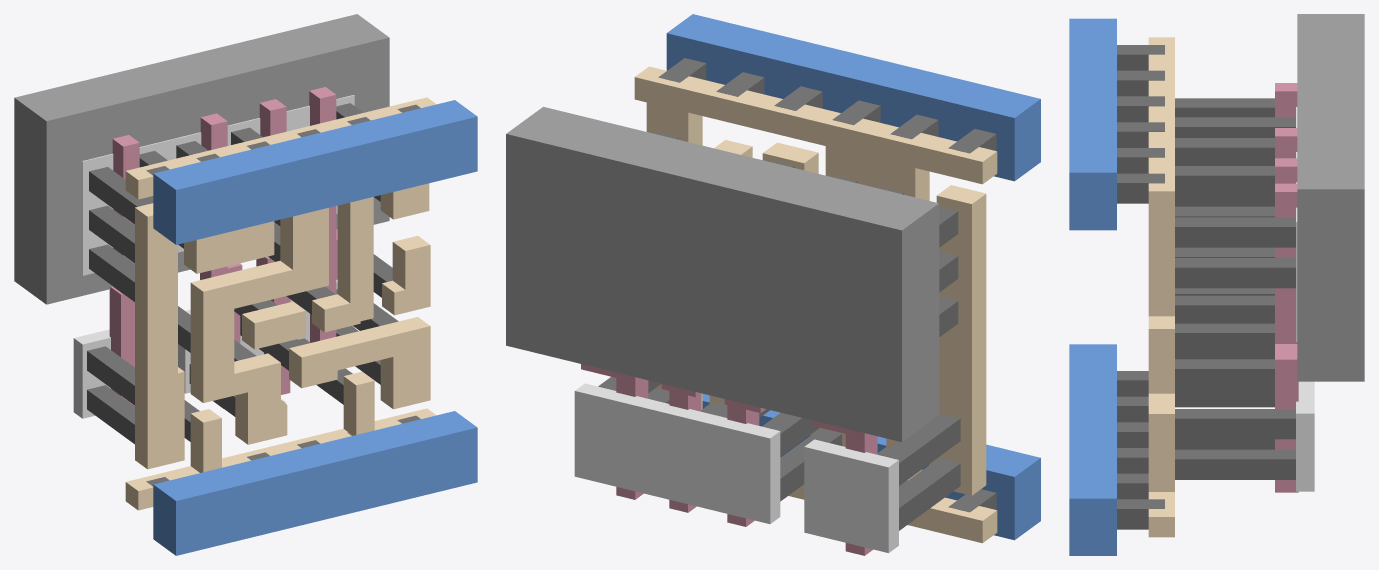
The model's file is sky130_fd_sc_hd__o21a_1.gds.gltf.
3 renders of one model, left to right at view 1: azimuth 30°, elevation 25°; view 2: azimuth 150°, elevation 25°; view 3: azimuth 270°, elevation 25°, orthographic. The views are drawn at different scales.
Visible parts, largest first — view 1: sky130_fd_sc_hd__o21a_1_li1, sky130_fd_sc_hd__o21a_1_met1, sky130_fd_sc_hd__o21a_1_nwell, sky130_fd_sc_hd__o21a_1_licon, sky130_fd_sc_hd__o21a_1_poly, sky130_fd_sc_hd__o21a_1_diff, sky130_fd_sc_hd__o21a_1_mcon; view 2: sky130_fd_sc_hd__o21a_1_nwell, sky130_fd_sc_hd__o21a_1_li1, sky130_fd_sc_hd__o21a_1_diff, sky130_fd_sc_hd__o21a_1_met1, sky130_fd_sc_hd__o21a_1_licon, sky130_fd_sc_hd__o21a_1_mcon, sky130_fd_sc_hd__o21a_1_poly; view 3: sky130_fd_sc_hd__o21a_1_licon, sky130_fd_sc_hd__o21a_1_nwell, sky130_fd_sc_hd__o21a_1_met1, sky130_fd_sc_hd__o21a_1_li1, sky130_fd_sc_hd__o21a_1_mcon, sky130_fd_sc_hd__o21a_1_poly, sky130_fd_sc_hd__o21a_1_diff.
Part boxes in pixels (x1,y1,x2,y2): sky130_fd_sc_hd__o21a_1_li1: (125, 97, 436, 510); sky130_fd_sc_hd__o21a_1_met1: (153, 100, 477, 555); sky130_fd_sc_hd__o21a_1_nwell: (14, 14, 389, 304); sky130_fd_sc_hd__o21a_1_licon: (87, 103, 398, 444); sky130_fd_sc_hd__o21a_1_poly: (109, 87, 337, 408); sky130_fd_sc_hd__o21a_1_diff: (73, 95, 354, 418); sky130_fd_sc_hd__o21a_1_mcon: (146, 104, 420, 486); sky130_fd_sc_hd__o21a_1_nwell: (506, 106, 939, 441); sky130_fd_sc_hd__o21a_1_li1: (634, 66, 997, 543); sky130_fd_sc_hd__o21a_1_diff: (574, 383, 898, 553); sky130_fd_sc_hd__o21a_1_met1: (666, 14, 1040, 540); sky130_fd_sc_hd__o21a_1_licon: (598, 132, 960, 530); sky130_fd_sc_hd__o21a_1_mcon: (658, 58, 996, 512); sky130_fd_sc_hd__o21a_1_poly: (581, 364, 877, 555); sky130_fd_sc_hd__o21a_1_licon: (1175, 98, 1295, 479); sky130_fd_sc_hd__o21a_1_nwell: (1297, 14, 1364, 381); sky130_fd_sc_hd__o21a_1_met1: (1069, 18, 1116, 555); sky130_fd_sc_hd__o21a_1_li1: (1148, 37, 1174, 537); sky130_fd_sc_hd__o21a_1_mcon: (1117, 45, 1164, 529); sky130_fd_sc_hd__o21a_1_poly: (1275, 83, 1298, 492); sky130_fd_sc_hd__o21a_1_diff: (1296, 107, 1314, 491).
Bounding box in the file's own units: 3.14 × 3.2 × 2.24.
